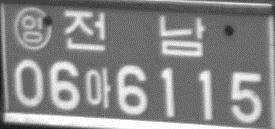0: (13, 57, 44, 108)
1: (190, 69, 222, 122), (152, 66, 184, 118)
5: (230, 70, 262, 124)
6: (115, 64, 148, 116), (48, 60, 80, 111)
아: (84, 66, 112, 109)
영: (13, 6, 52, 50)
전남_D: (62, 10, 205, 57)
